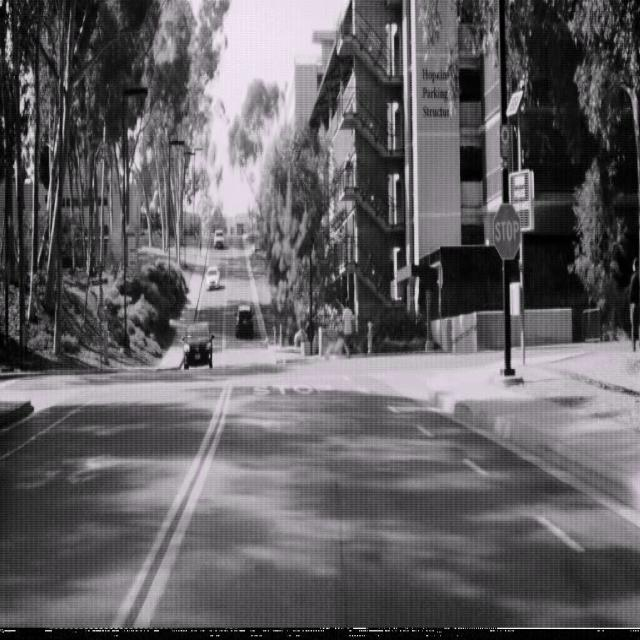stop: (492, 202, 521, 260)
